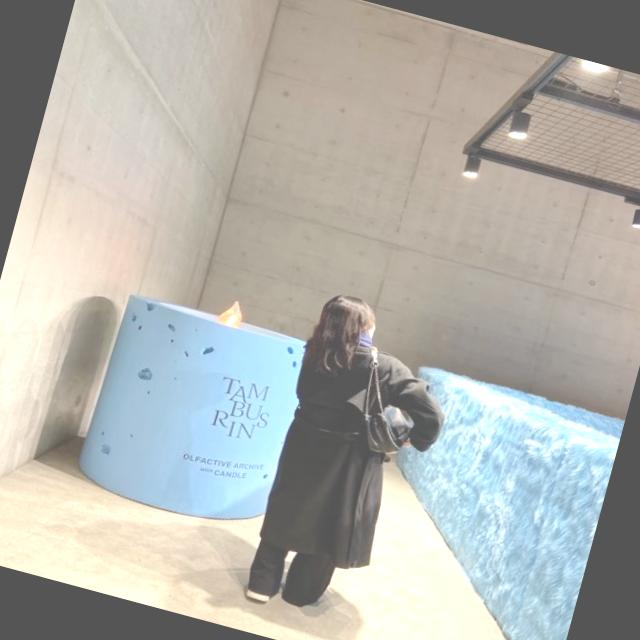coat: (262, 331, 456, 579)
slacks: (245, 536, 338, 612)
